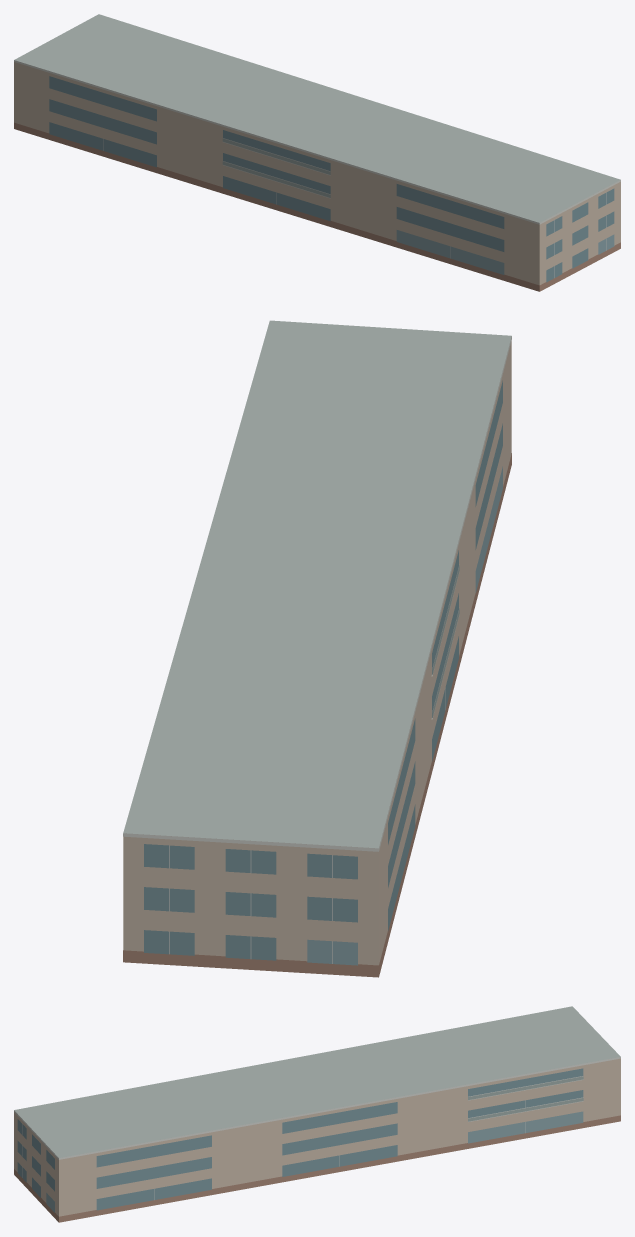
The model's file is survey-upis-32693240.glb.
The picture shows the model from 3 angles, top to bottom: view 1: azimuth 30°, elevation 25°; view 2: azimuth 150°, elevation 25°; view 3: azimuth 270°, elevation 25°; orthographic projection. The views are drawn at different scales.
Parts seen in each view (by area): view 1: survey-upis-32693240.tmp; view 2: survey-upis-32693240.tmp; view 3: survey-upis-32693240.tmp.
Boxes of the visible parts, x1,y1,x2,y2 form: survey-upis-32693240.tmp: [14, 14, 620, 291]; survey-upis-32693240.tmp: [123, 320, 511, 977]; survey-upis-32693240.tmp: [14, 1006, 620, 1222].
Size of the model in its own units: 46.2 by 9.15 by 77.99.
